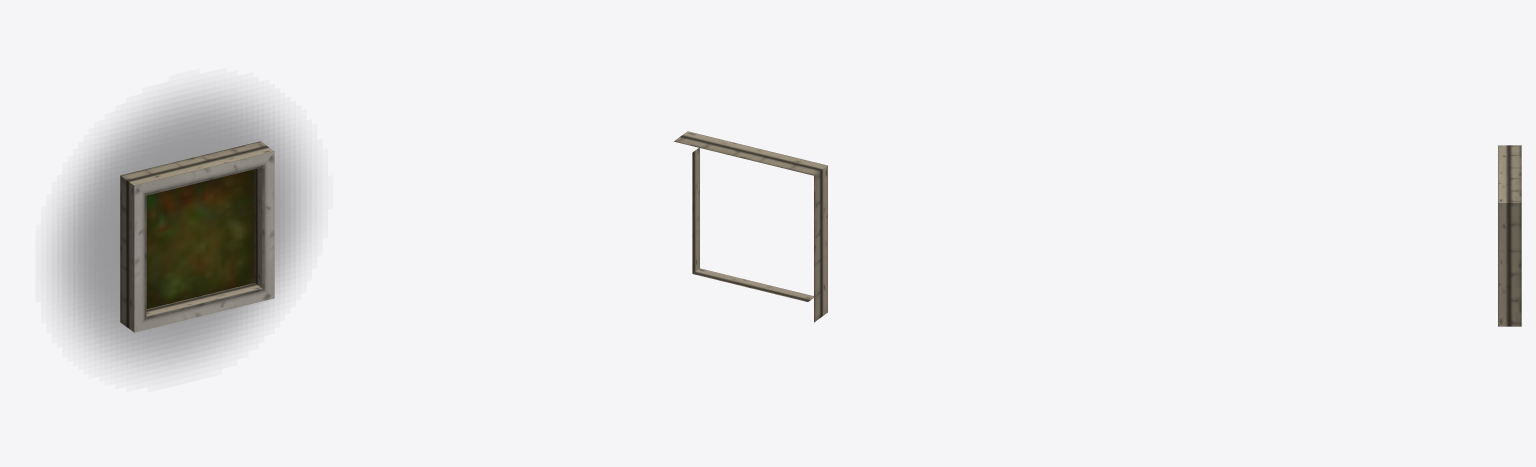
File: prop_tree_fat_brickbox_ul.glb
The picture shows the model from 3 angles, left to right: view 1: azimuth 30°, elevation 25°; view 2: azimuth 150°, elevation 25°; view 3: azimuth 270°, elevation 25°; orthographic projection. The views are drawn at different scales.
Parts seen in each view (by area): view 1: shadow_large_brickbox_ul_1, box_drit_4; view 2: box_drit_4; view 3: box_drit_4.
Part boxes in pixels (x1=…): shadow_large_brickbox_ul_1: x1=57, y1=93, x2=306, y2=368; box_drit_4: x1=120, y1=141, x2=274, y2=332; box_drit_4: x1=674, y1=131, x2=827, y2=322; box_drit_4: x1=1498, y1=145, x2=1521, y2=326.
Size of the model in its own units: 23.98 by 23.54 by 25.34.
Materials: 4 (4 with a texture image).
